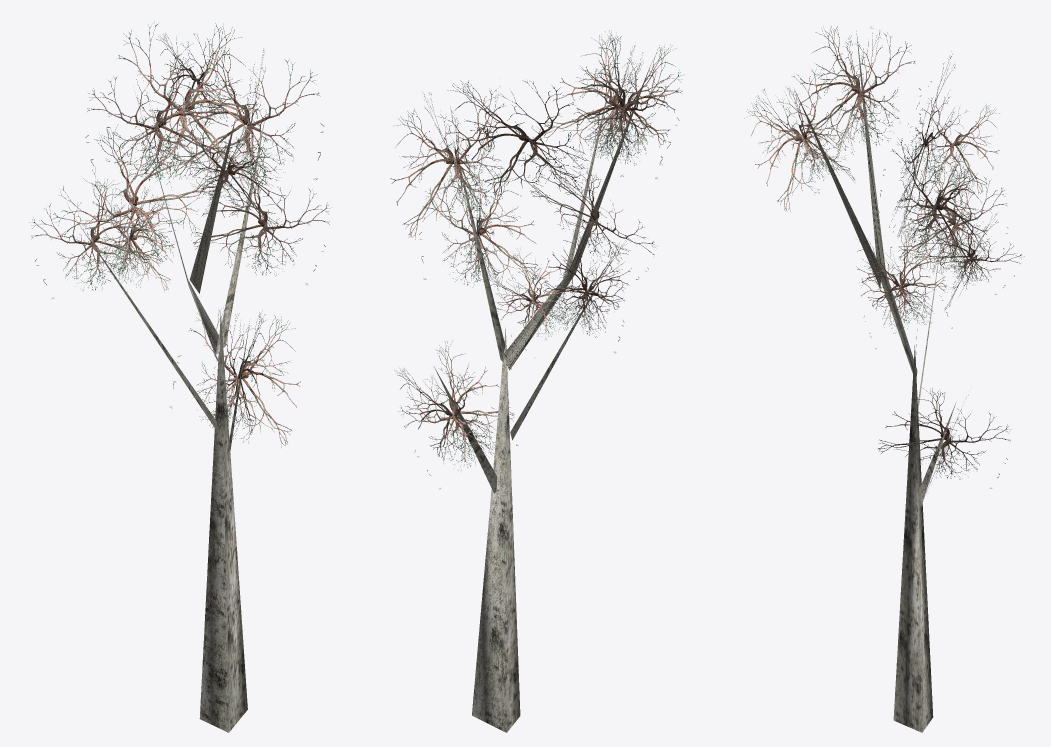
File: decd_whitebirchtreebranches_l2.fbx
The picture shows the model from 3 angles, left to right: view 1: azimuth 30°, elevation 25°; view 2: azimuth 150°, elevation 25°; view 3: azimuth 270°, elevation 25°; orthographic projection. The views are drawn at different scales.
Visible parts, largest first — view 1: mesh_node; view 2: mesh_node; view 3: mesh_node.
Boxes of the visible parts, left/top/right/bottom form: mesh_node: left=29, top=21, right=329, bottom=732; mesh_node: left=390, top=30, right=684, bottom=732; mesh_node: left=744, top=26, right=1024, bottom=732.
Bounding box in the file's own units: 6.23 × 14.6 × 6.19.
